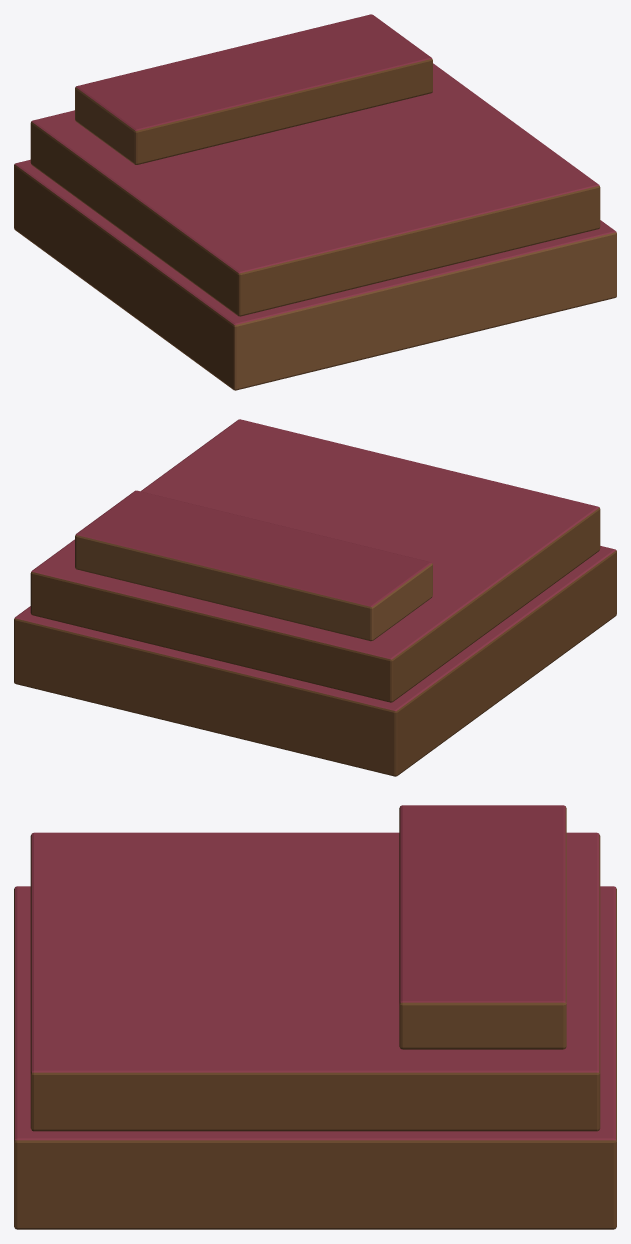
File: Bed.glb
3 renders of one model, top to bottom at view 1: azimuth 30°, elevation 25°; view 2: azimuth 150°, elevation 25°; view 3: azimuth 270°, elevation 25°, orthographic. The views are drawn at different scales.
Parts seen in each view (by area): view 1: Bed; view 2: Bed; view 3: Bed.
Part boxes in pixels (x1=…): Bed: x1=14, y1=14, x2=616, y2=390; Bed: x1=14, y1=419, x2=616, y2=776; Bed: x1=14, y1=805, x2=616, y2=1229.
Size of what is drawn, in the model's own units: 0.9 by 0.33 by 0.9.
1 material, 1 textured.
